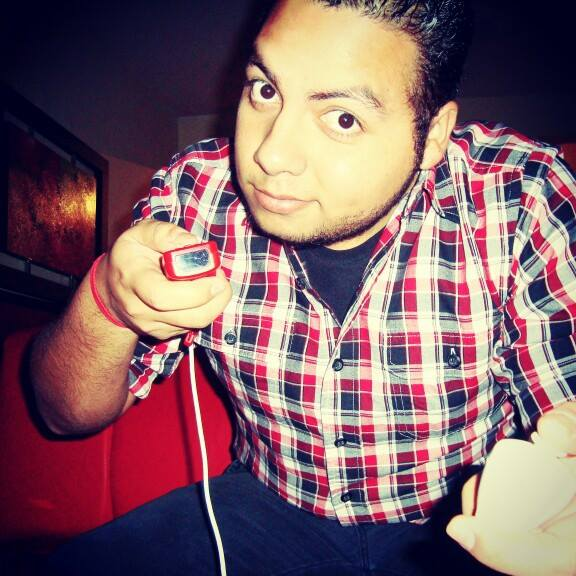Yoshi: (147, 1, 506, 265)
